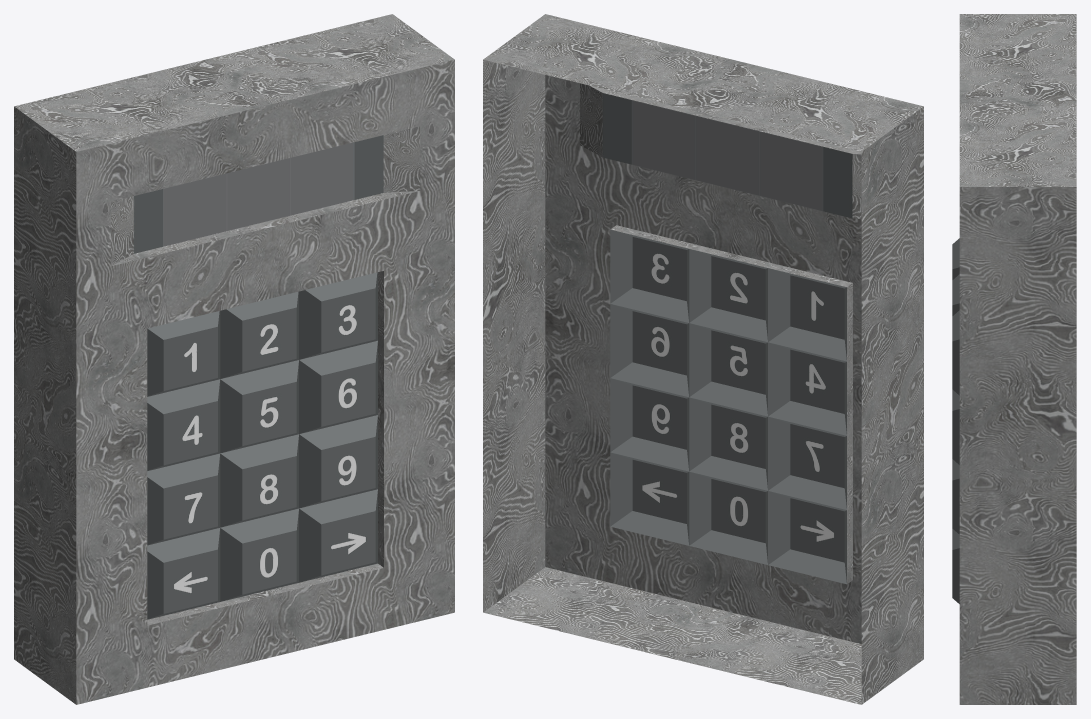
The model's file is security_keypad.glb.
The picture shows the model from 3 angles, left to right: view 1: azimuth 30°, elevation 25°; view 2: azimuth 150°, elevation 25°; view 3: azimuth 270°, elevation 25°; orthographic projection. The views are drawn at different scales.
Visible parts, largest first — view 1: polySurface1; view 2: polySurface1; view 3: polySurface1.
Boxes of the visible parts, x1,y1,x2,y2 form: polySurface1: (14, 14, 454, 704); polySurface1: (483, 14, 923, 704); polySurface1: (952, 14, 1076, 704).
Bounding box in the file's own units: 0.0262 × 0.0366 × 0.00795.
Materials: 1 (1 with a texture image).
